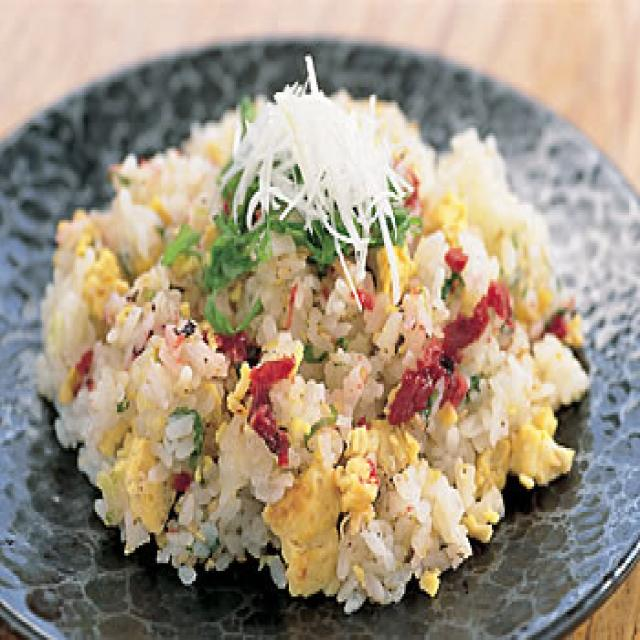米饭主食: (0, 20, 640, 640)
